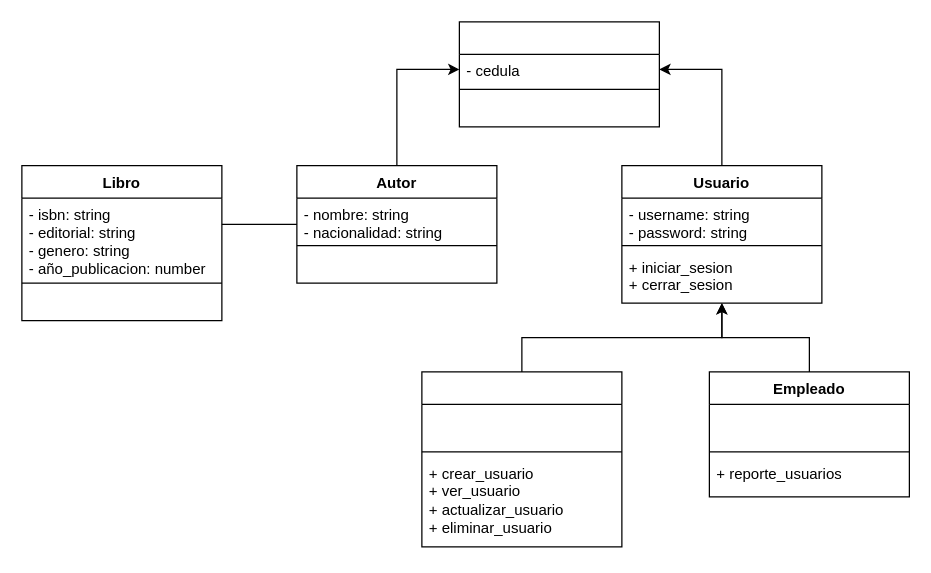
Some shapes in this 931 by 573 pixel diagram are drawn without their labels. The shapes that lost their labels are listed below. From the top down, each one's box as (x1, y1, x2, y2) in pixels, then its label:
(458, 21, 659, 127): Persona
(421, 371, 622, 547): Administrador
